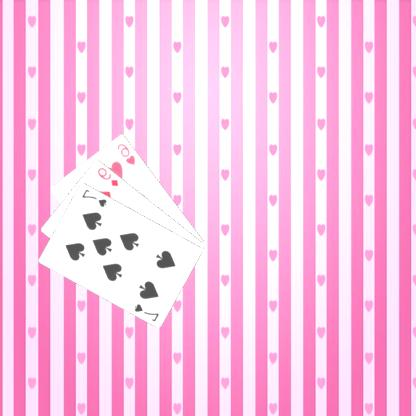6H: (116, 140, 138, 166)
7S: (81, 186, 110, 208), (134, 300, 162, 322)
9D: (96, 164, 122, 188)
